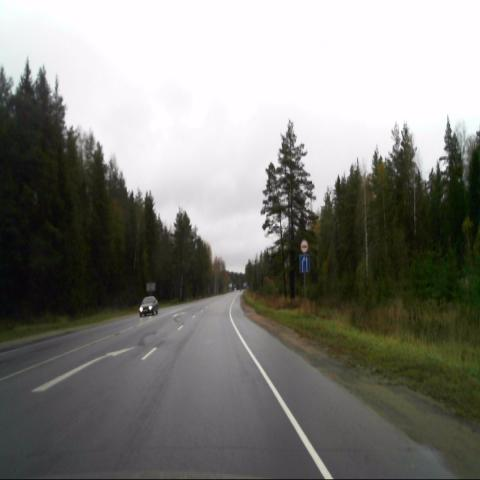3_20: (300, 238, 310, 253)
5_15_5: (298, 254, 311, 273)
